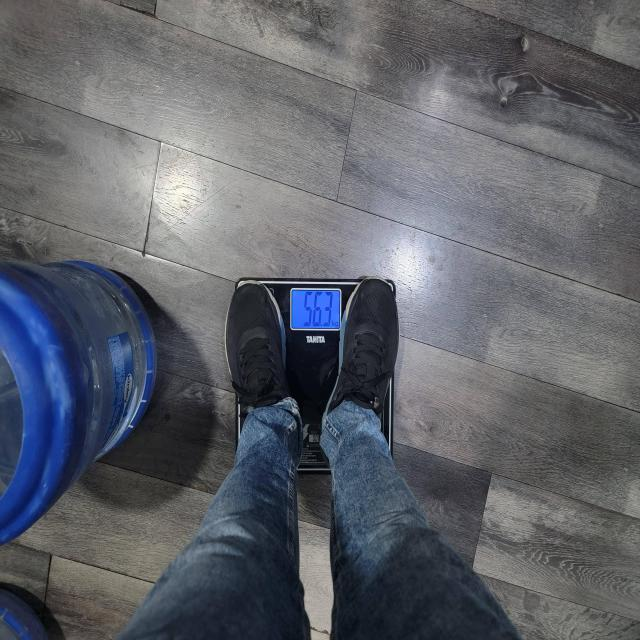ws: (266, 282, 355, 440)
